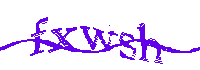f: (30, 17, 48, 55)
h: (137, 21, 162, 64)
s: (119, 30, 138, 62)
w: (81, 24, 117, 53)
x: (50, 24, 79, 52)
